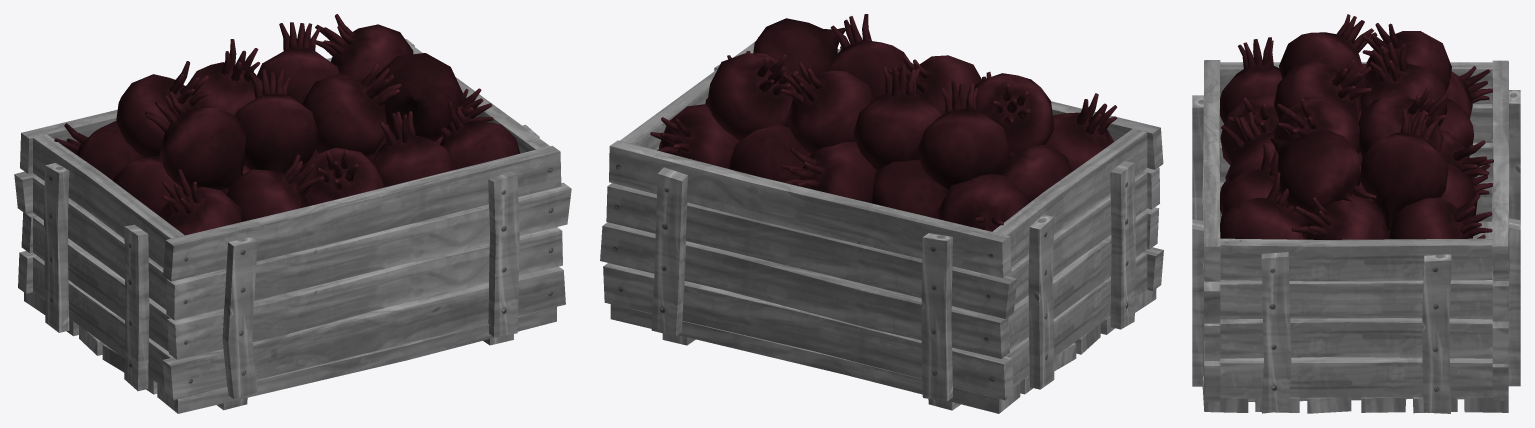
File: Crate01C.fbx
3 views of the same model, side by side, from view 1: azimuth 30°, elevation 25°; view 2: azimuth 150°, elevation 25°; view 3: azimuth 270°, elevation 25° (orthographic). The views are drawn at different scales.
Visible parts, largest first — view 1: Crate01_LOD0, Beets04_LOD0, Beets03_LOD0; view 2: Crate01_LOD0, Beets04_LOD0, Beets03_LOD0; view 3: Crate01_LOD0, Beets04_LOD0, Beets03_LOD0, Beets01_LOD0.
Boxes of the visible parts, left/top/right/bottom form: Crate01_LOD0: left=14, top=39, right=571, bottom=413; Beets04_LOD0: left=116, top=14, right=462, bottom=189; Beets03_LOD0: left=54, top=88, right=520, bottom=235; Crate01_LOD0: left=600, top=37, right=1163, bottom=413; Beets04_LOD0: left=707, top=14, right=1054, bottom=191; Beets03_LOD0: left=650, top=46, right=1117, bottom=231; Crate01_LOD0: left=1192, top=60, right=1520, bottom=413; Beets04_LOD0: left=1271, top=14, right=1451, bottom=230; Beets03_LOD0: left=1220, top=37, right=1493, bottom=239; Beets01_LOD0: left=1220, top=164, right=1492, bottom=238.
Size of what is drawn, in the model's own units: 88.9 by 57.57 by 63.42.
